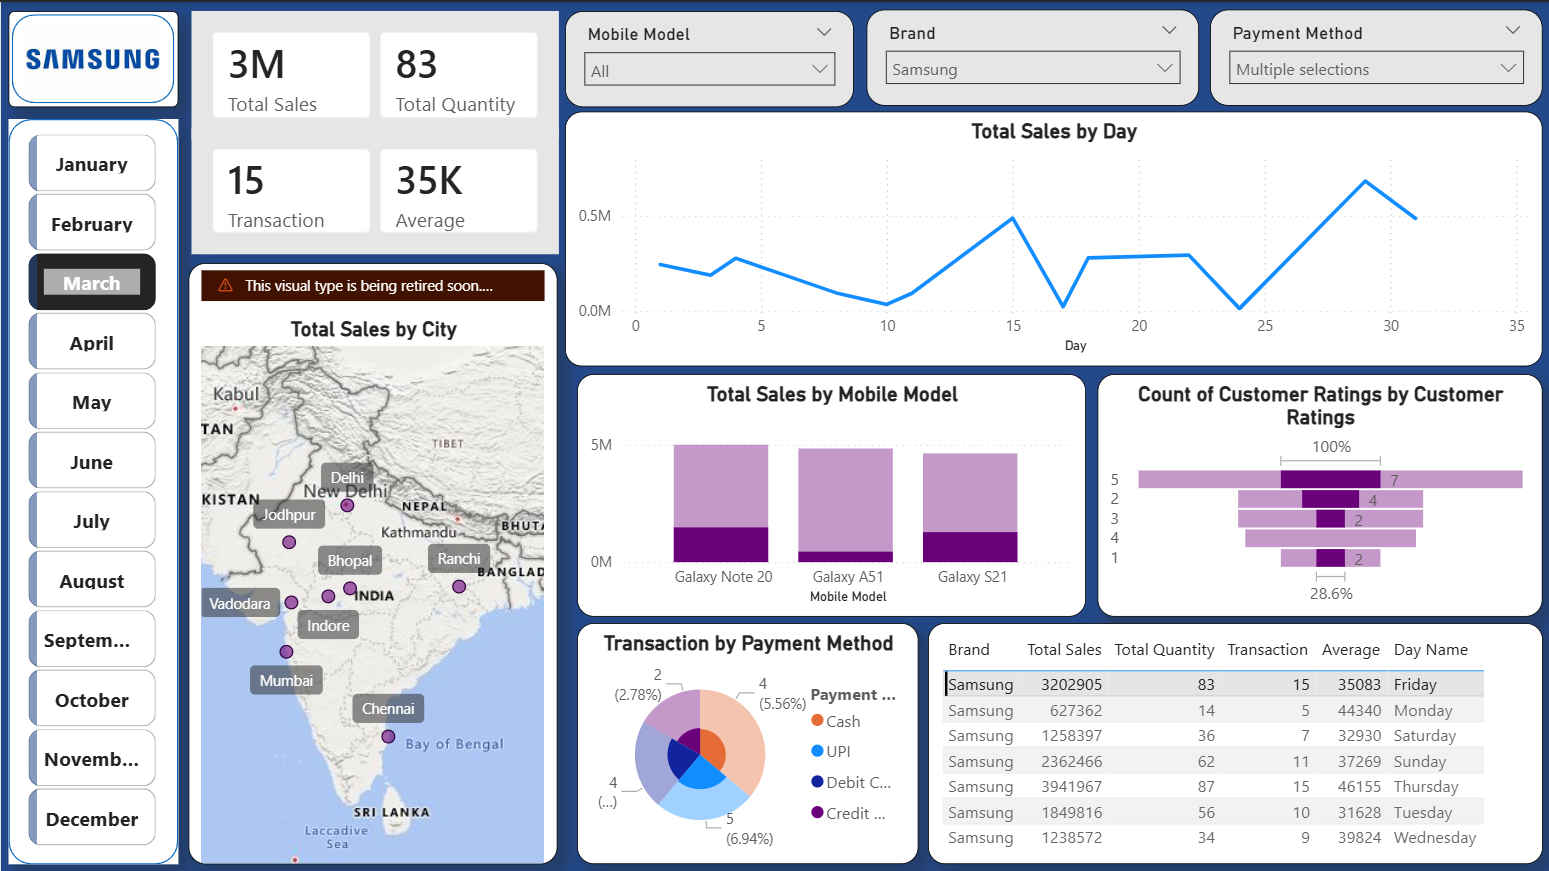

The page's visual inventory and layout, read from the dashboard file:
{"tool":"powerbi","page":{"name":"Mobile Sales","canvas":[1280,720],"ordinal":0},"visuals":[{"type":"shape","box":[5.7,7.6,139.8,79.4],"z":0},{"type":"image","box":[12.4,16.1,126,61.8],"z":1000},{"type":"shape","box":[5.7,96.4,139.8,614.2],"z":2000},{"type":"advancedSlicerVisual","fields":{"Values":["Mobile Data.Date.Variation.Date Hierarchy.Month"]},"box":[17,103.9,115.3,599.1],"z":3000},{"type":"cardVisual","fields":{"Data":["Mobile Data.Total Sales","Mobile Data.Total Quantity"]},"box":[156.9,7.6,302.4,105.8],"z":4000},{"type":"cardVisual","fields":{"Data":["Mobile Data.Transaction","Mobile Data.Average"]},"box":[156.9,103.9,302.4,103.9],"z":5000},{"type":"map","fields":{"Category":["Mobile Data.City"],"Y":["Mobile Data.Total Sales"]},"box":[155,215.4,304.3,495.1],"z":6000},{"type":"clusteredColumnChart","fields":{"Category":["Mobile Data.Mobile Model"],"Y":["Mobile Data.Total Sales"]},"box":[474.3,306.1,419.5,200.3],"z":7000},{"type":"pieChart","fields":{"Category":["Mobile Data.Payment Method"],"Y":["Mobile Data.Transaction"]},"box":[474.3,512.1,281.6,198.4],"z":8000},{"type":"funnel","fields":{"Category":["Mobile Data.Customer Ratings"],"Y":["CountNonNull(Mobile Data.Customer Ratings)"]},"box":[903.3,306.1,366.6,200.3],"z":9000},{"type":"tableEx","fields":{"Values":["Mobile Data.Brand","Mobile Data.Total Sales","Mobile Data.Total Quantity","Mobile Data.Transaction","Mobile Data.Average","Mobile Data.Day Name"]},"box":[763.5,512.1,506.5,198.4],"z":10000},{"type":"slicer","fields":{"Values":["Mobile Data.Mobile Model"]},"box":[464.9,7.6,238.1,79.4],"z":11000},{"type":"slicer","fields":{"Values":["Mobile Data.Brand"]},"box":[712.4,5.7,274,79.4],"z":12000},{"type":"slicer","fields":{"Values":["Mobile Data.Payment Method"]},"box":[995.9,5.7,274,79.4],"z":13000},{"type":"lineChart","fields":{"Category":["Mobile Data.Date.Variation.Date Hierarchy.Month","Mobile Data.Date.Variation.Date Hierarchy.Day"],"Y":["Mobile Data.Total Sales"]},"box":[464.9,90.7,805,209.8],"z":14000}]}

Visuals, with their boxes in screenshot pixels (x1, y1, x2, y2), scaled from the page's 1280x720 canvas onto the 1549x871 screenshot:
shape: Rect(7, 9, 176, 105)
image: Rect(15, 19, 167, 94)
shape: Rect(7, 117, 176, 860)
advancedSlicerVisual - Mobile Data.Date.Variation.Date Hierarchy.Month: Rect(21, 126, 160, 850)
cardVisual - Mobile Data.Total Sales x Mobile Data.Total Quantity: Rect(190, 9, 556, 137)
cardVisual - Mobile Data.Transaction x Mobile Data.Average: Rect(190, 126, 556, 251)
map - Mobile Data.City x Mobile Data.Total Sales: Rect(188, 261, 556, 860)
clusteredColumnChart - Mobile Data.Mobile Model x Mobile Data.Total Sales: Rect(574, 370, 1082, 613)
pieChart - Mobile Data.Payment Method x Mobile Data.Transaction: Rect(574, 619, 915, 860)
funnel - Mobile Data.Customer Ratings x CountNonNull(Mobile Data.Customer Ratings): Rect(1093, 370, 1537, 613)
tableEx - Mobile Data.Brand x Mobile Data.Total Sales: Rect(924, 619, 1537, 860)
slicer - Mobile Data.Mobile Model: Rect(563, 9, 851, 105)
slicer - Mobile Data.Brand: Rect(862, 7, 1194, 103)
slicer - Mobile Data.Payment Method: Rect(1205, 7, 1537, 103)
lineChart - Mobile Data.Date.Variation.Date Hierarchy.Month x Mobile Data.Date.Variation.Date Hierarchy.Day: Rect(563, 110, 1537, 364)
